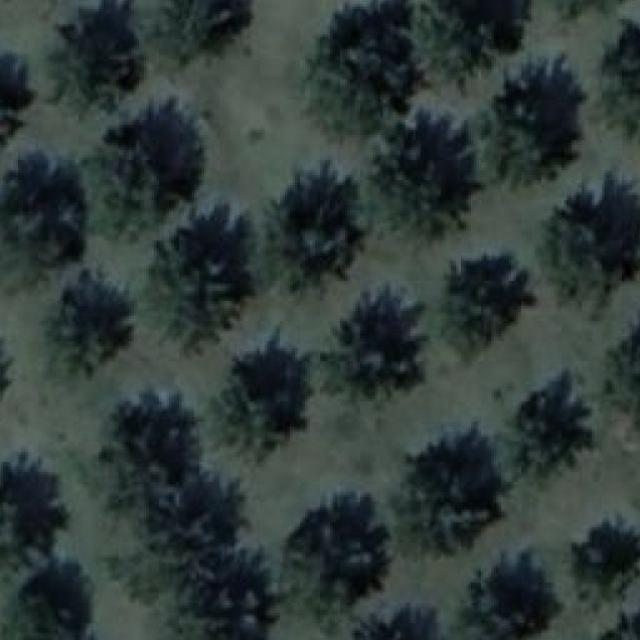Tree: (106, 388, 234, 548), (307, 0, 428, 138), (391, 422, 512, 558), (89, 104, 199, 250), (277, 492, 390, 633), (204, 326, 320, 462), (481, 54, 590, 190), (149, 200, 247, 351), (370, 112, 486, 238), (538, 188, 639, 322), (317, 288, 423, 414), (262, 170, 365, 299), (506, 366, 605, 495), (45, 0, 146, 120), (0, 150, 94, 274), (40, 271, 136, 381), (408, 0, 532, 85), (441, 251, 536, 361), (453, 547, 563, 640), (0, 448, 72, 584), (166, 552, 275, 640), (564, 512, 640, 612), (1, 559, 92, 640), (147, 0, 260, 57), (590, 321, 640, 449), (602, 19, 640, 140), (342, 603, 451, 640), (0, 51, 38, 140), (602, 615, 640, 640)
